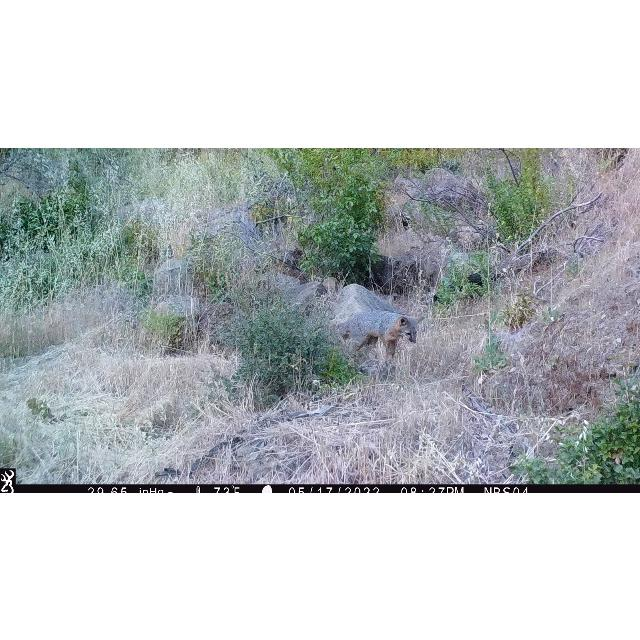animals: (334, 310, 426, 362)
